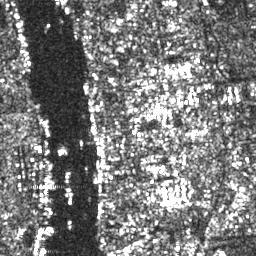ship: (42, 119, 51, 138), (17, 33, 29, 46), (96, 202, 103, 220), (83, 82, 90, 96), (67, 191, 74, 205), (90, 125, 98, 135), (92, 173, 98, 185), (15, 20, 24, 28), (96, 146, 102, 157)
